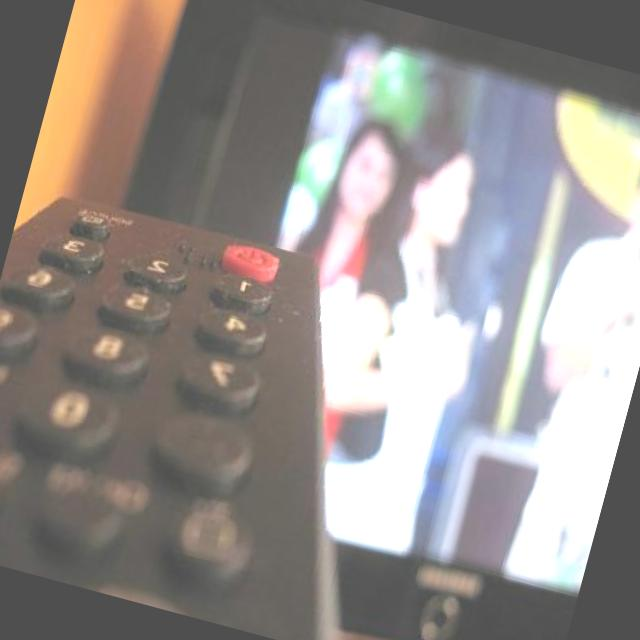Person: (281, 108, 527, 568), (429, 90, 640, 603), (262, 113, 413, 404)
